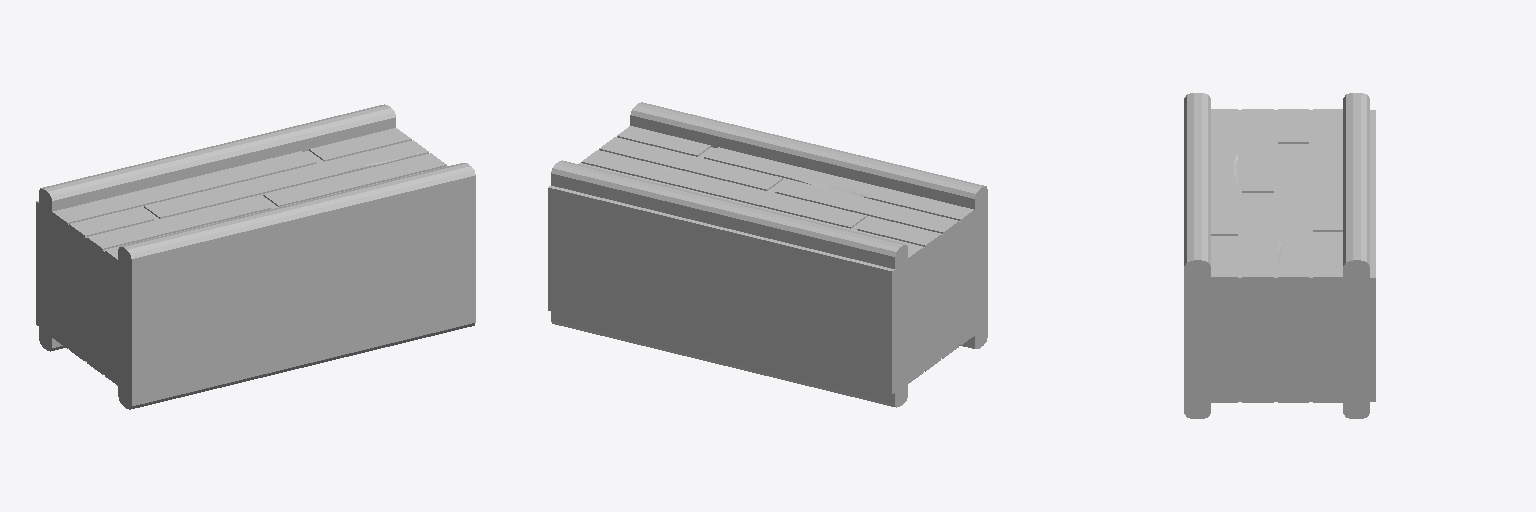
File: Environment_Counter_Straight.obj
3 views of the same model, side by side, from view 1: azimuth 30°, elevation 25°; view 2: azimuth 150°, elevation 25°; view 3: azimuth 270°, elevation 25° (orthographic).
Parts seen in each view (by area): view 1: Environment_Counter_Straight.001_Cube.002; view 2: Environment_Counter_Straight.001_Cube.002; view 3: Environment_Counter_Straight.001_Cube.002.
Boxes of the visible parts, <box> form: Environment_Counter_Straight.001_Cube.002: <box>36,104,475,409</box>; Environment_Counter_Straight.001_Cube.002: <box>548,102,987,407</box>; Environment_Counter_Straight.001_Cube.002: <box>1184,93,1375,418</box>.
Bounding box in the file's own units: 4 × 1.77 × 1.92.